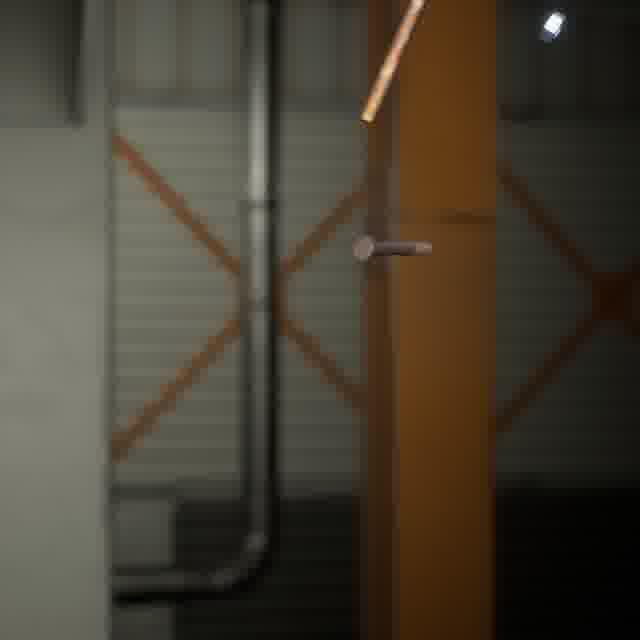bolt: (355, 0, 432, 128), (347, 230, 436, 265)
nut: (534, 7, 570, 48)
